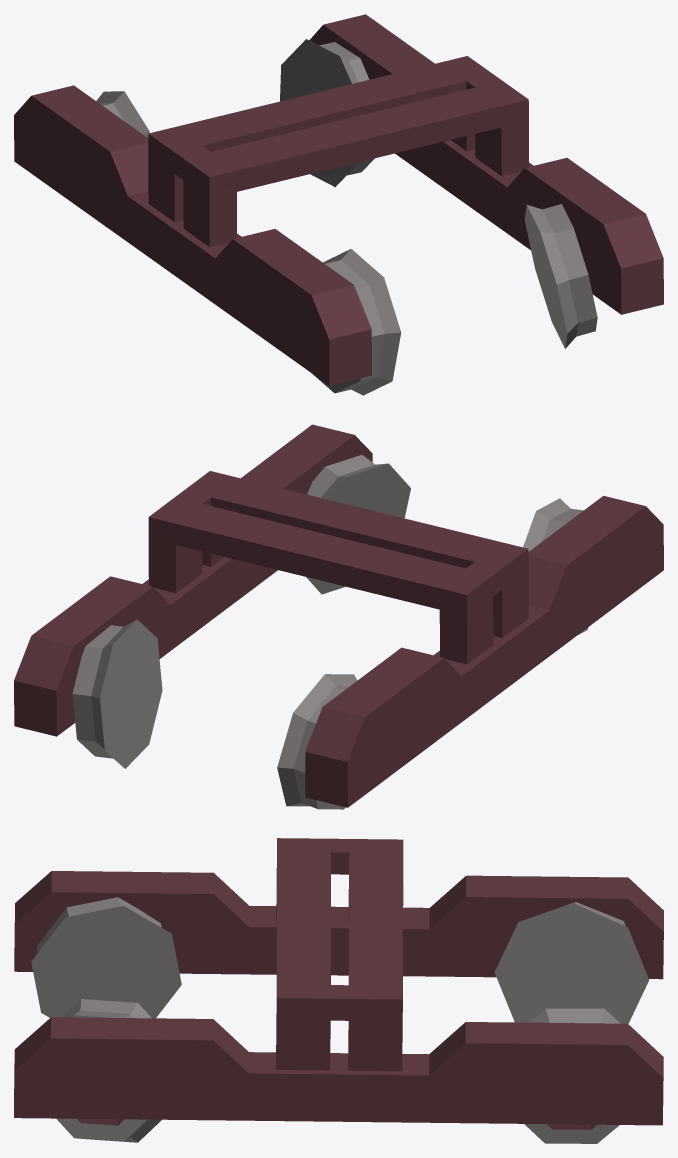
The model's file is train-wheels-apocalypse-a.fbx.
3 renders of one model, top to bottom at view 1: azimuth 30°, elevation 25°; view 2: azimuth 150°, elevation 25°; view 3: azimuth 270°, elevation 25°, orthographic. The views are drawn at different scales.
Visible parts, largest first — view 1: train-wheels-apocalypse-a; view 2: train-wheels-apocalypse-a; view 3: train-wheels-apocalypse-a.
Part boxes in pixels (<box>): train-wheels-apocalypse-a: <box>14,14,663,395</box>; train-wheels-apocalypse-a: <box>14,424,663,809</box>; train-wheels-apocalypse-a: <box>14,838,663,1143</box>.
Bounding box in the file's own units: 2.2 × 1.07 × 3.61.
